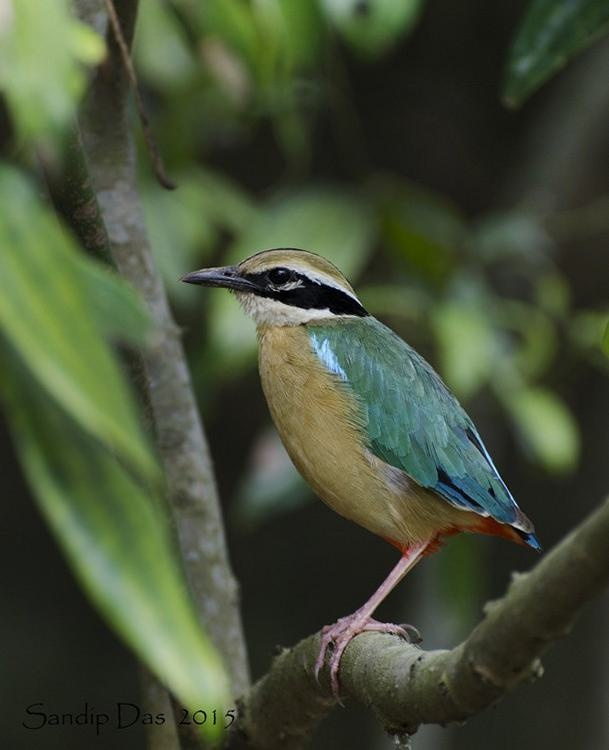pitta: (173, 225, 541, 638)
